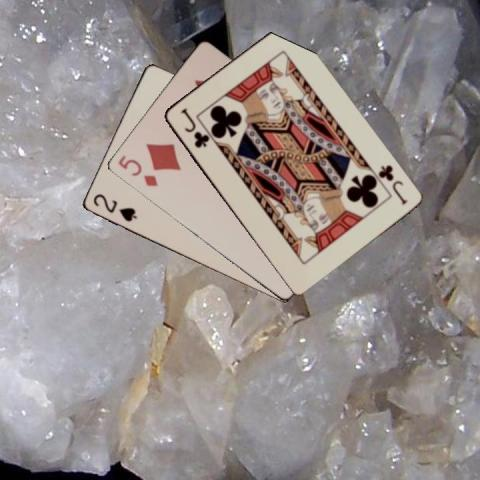2s: (89, 191, 139, 223)
5d: (115, 151, 159, 188)
Jc: (374, 161, 408, 207), (177, 106, 209, 149)
